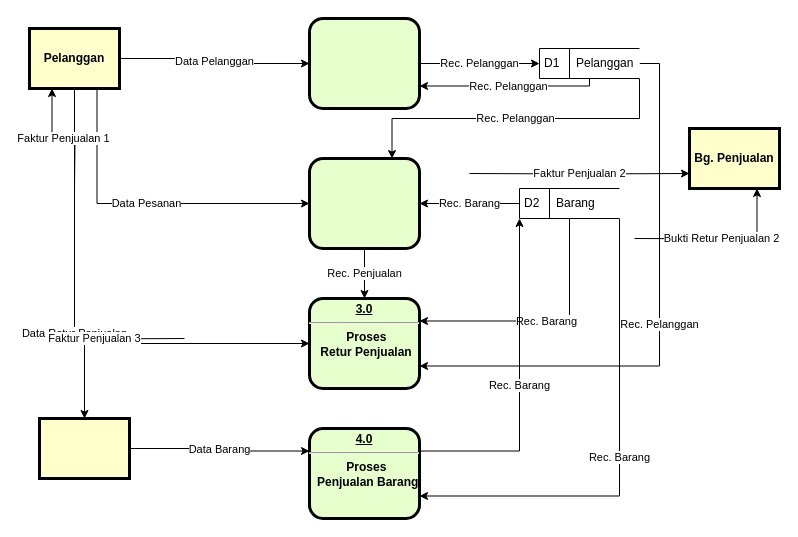
The diagram is 798 pixels wide and 537 high, and some of its shapes have lost their labels. Here are the shapes that lost their labels. From the top down, the box of each, then its label:
(308, 16, 420, 110): 1.0 Proses Registrasi
(308, 156, 420, 250): 2.0 Proses Penjualan
(38, 416, 130, 480): Bg. Gudang
